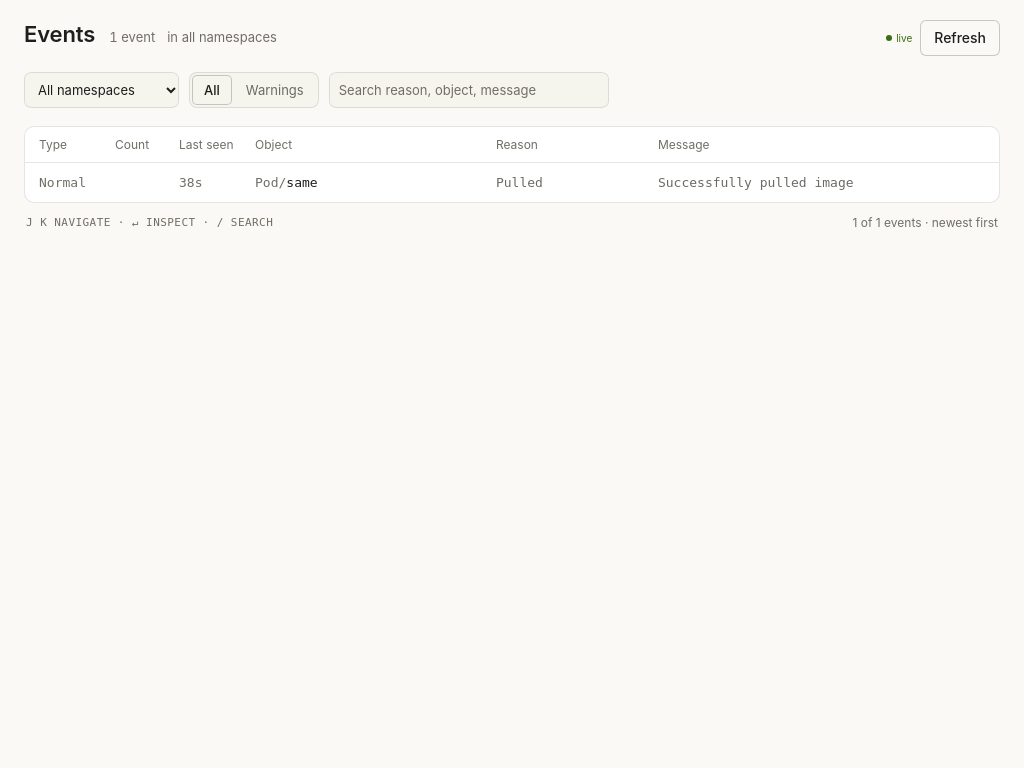
EventsView lifecycle corrections (Codex 8de24158) › A -> B never carries a selection, even onto a colliding row key
Click the button with class "lens-row" at (512, 183), box [25,163,999,203]
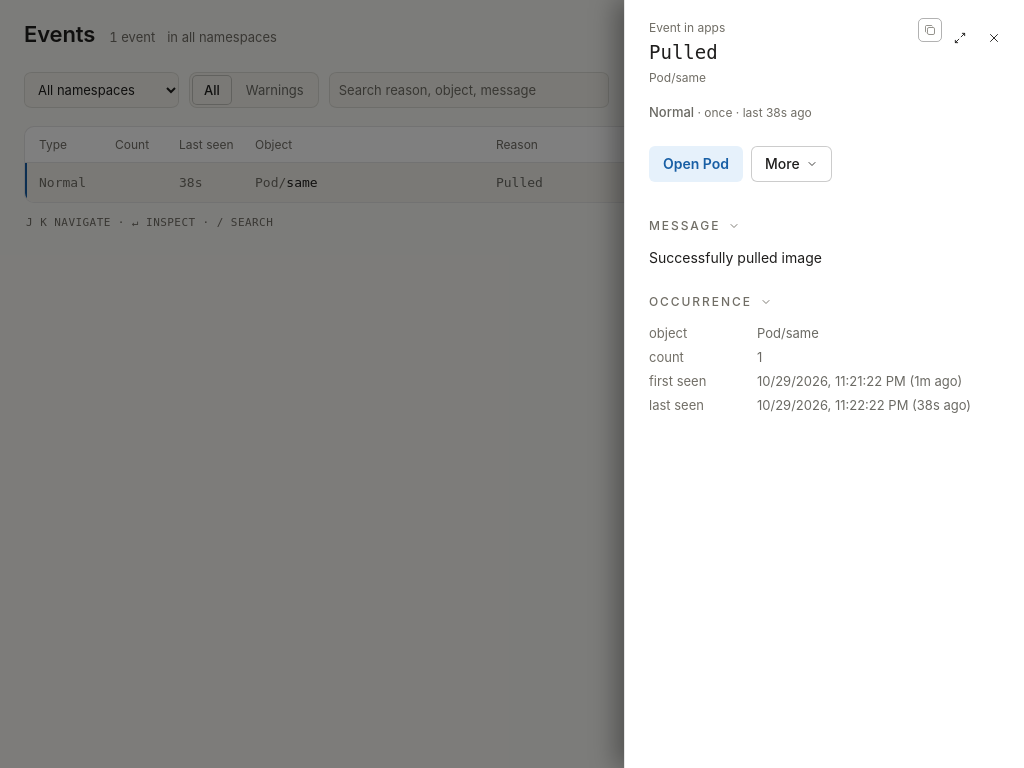
Result: the element with test id "event-panel" is shown at [625,20,1023,413]
